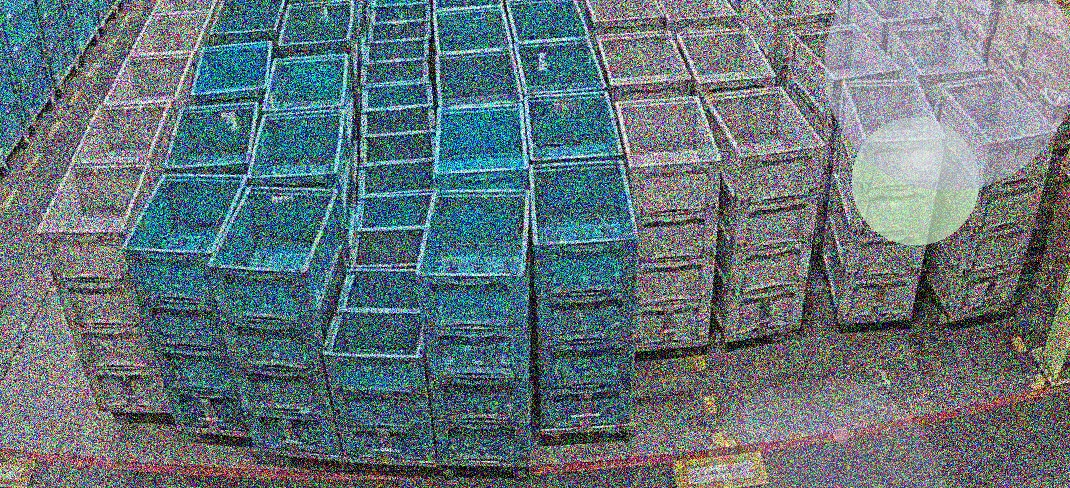4G: (36, 160, 172, 414), (923, 74, 1057, 317), (704, 86, 825, 342), (822, 79, 947, 324), (615, 96, 722, 352)
B4: (211, 179, 342, 456), (121, 173, 249, 432), (415, 189, 530, 464), (529, 160, 639, 429)
B8: (322, 268, 436, 461)
